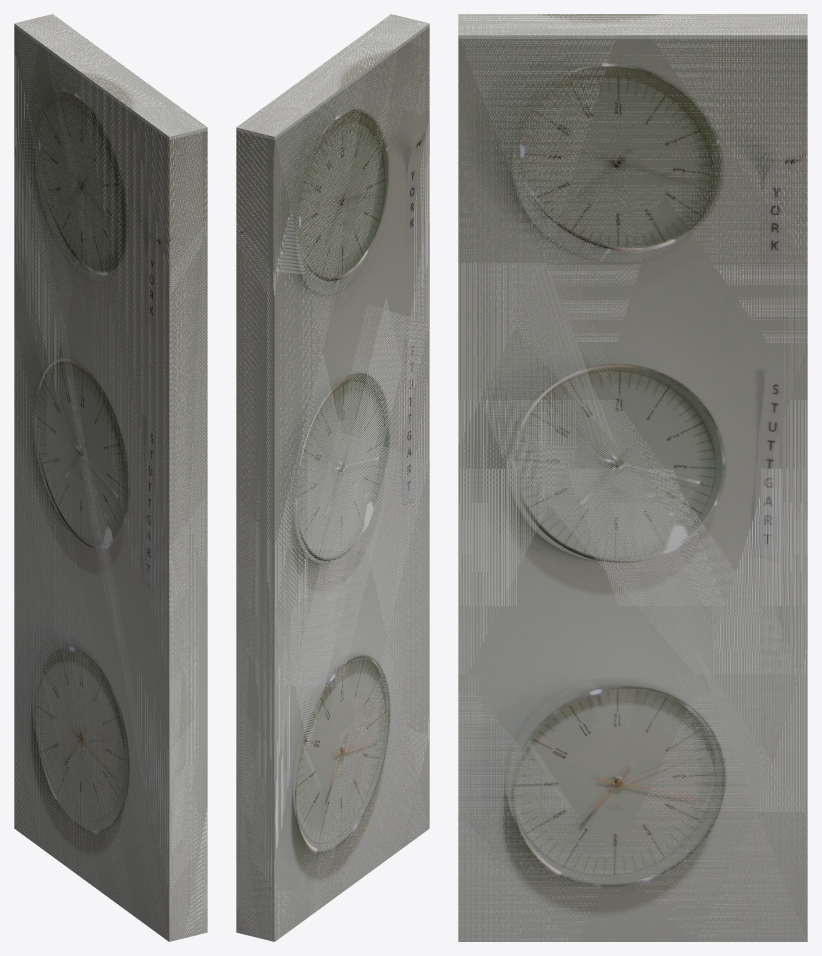
The model's file is livingroom_clocks.dae.
The picture shows the model from 3 angles, left to right: view 1: azimuth 30°, elevation 25°; view 2: azimuth 150°, elevation 25°; view 3: azimuth 270°, elevation 25°; orthographic projection. The views are drawn at different scales.
Visible parts, largest first — view 1: SketchUp; view 2: SketchUp; view 3: SketchUp.
Boxes of the visible parts, x1,y1,x2,y2 form: SketchUp: (14, 14, 207, 941); SketchUp: (236, 14, 429, 941); SketchUp: (458, 14, 807, 941).
Bounding box in the file's own units: 0.0503 × 0.3495 × 1.
2 materials, 1 textured.
